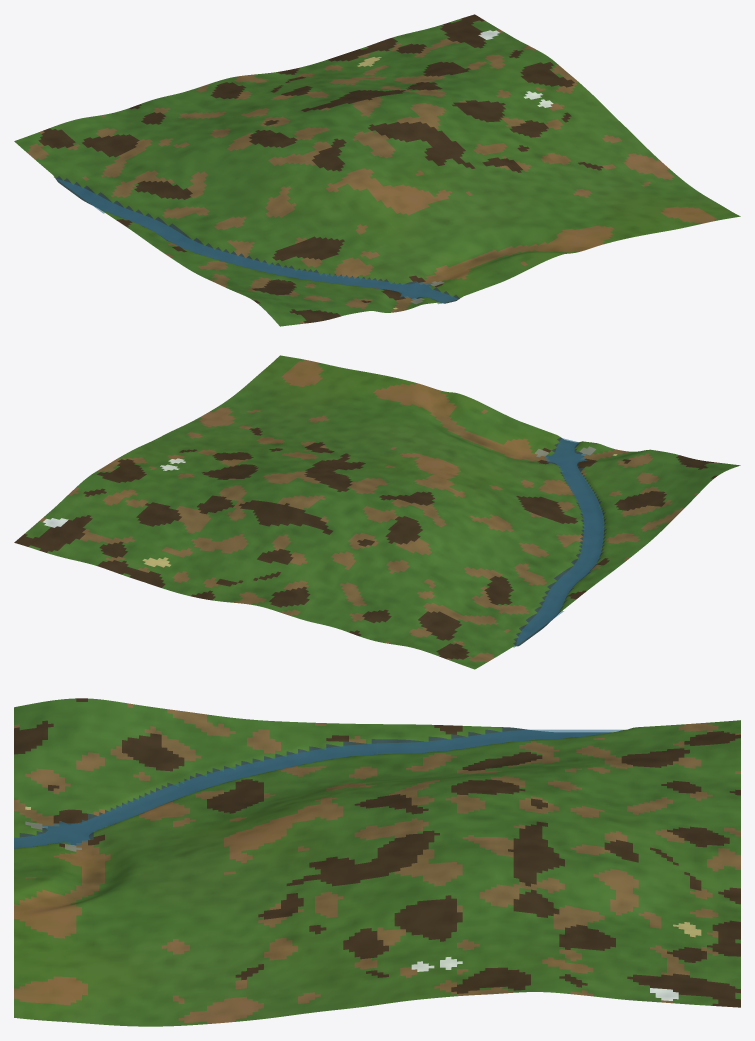
Rendered from chunk_2_5.glb.
3 renders of one model, top to bottom at view 1: azimuth 30°, elevation 25°; view 2: azimuth 150°, elevation 25°; view 3: azimuth 270°, elevation 25°, orthographic. The views are drawn at different scales.
Visible parts, largest first — view 1: Surface_Grass, Surface_Dirt, Surface_Mud, Surface_Water, Water; view 2: Surface_Grass, Surface_Dirt, Surface_Mud, Surface_Water, Water; view 3: Surface_Grass, Surface_Dirt, Surface_Mud, Surface_Water, Water, Surface_Snow.
Boxes of the visible parts, <box> form: Surface_Grass: <box>14,19,740,326</box>; Surface_Dirt: <box>26,29,716,323</box>; Surface_Mud: <box>38,14,603,323</box>; Surface_Water: <box>56,176,459,303</box>; Water: <box>54,177,458,303</box>; Surface_Grass: <box>24,355,740,669</box>; Surface_Dirt: <box>39,360,718,662</box>; Surface_Mud: <box>14,427,717,659</box>; Surface_Water: <box>513,437,606,646</box>; Water: <box>513,438,604,647</box>; Surface_Grass: <box>14,698,740,1026</box>; Surface_Dirt: <box>14,703,740,1024</box>; Surface_Mud: <box>14,698,740,1007</box>; Surface_Water: <box>14,727,608,848</box>; Water: <box>14,729,624,848</box>; Surface_Snow: <box>411,957,678,1000</box>.
Size of the model in its own units: 256 by 25.4 by 256.
